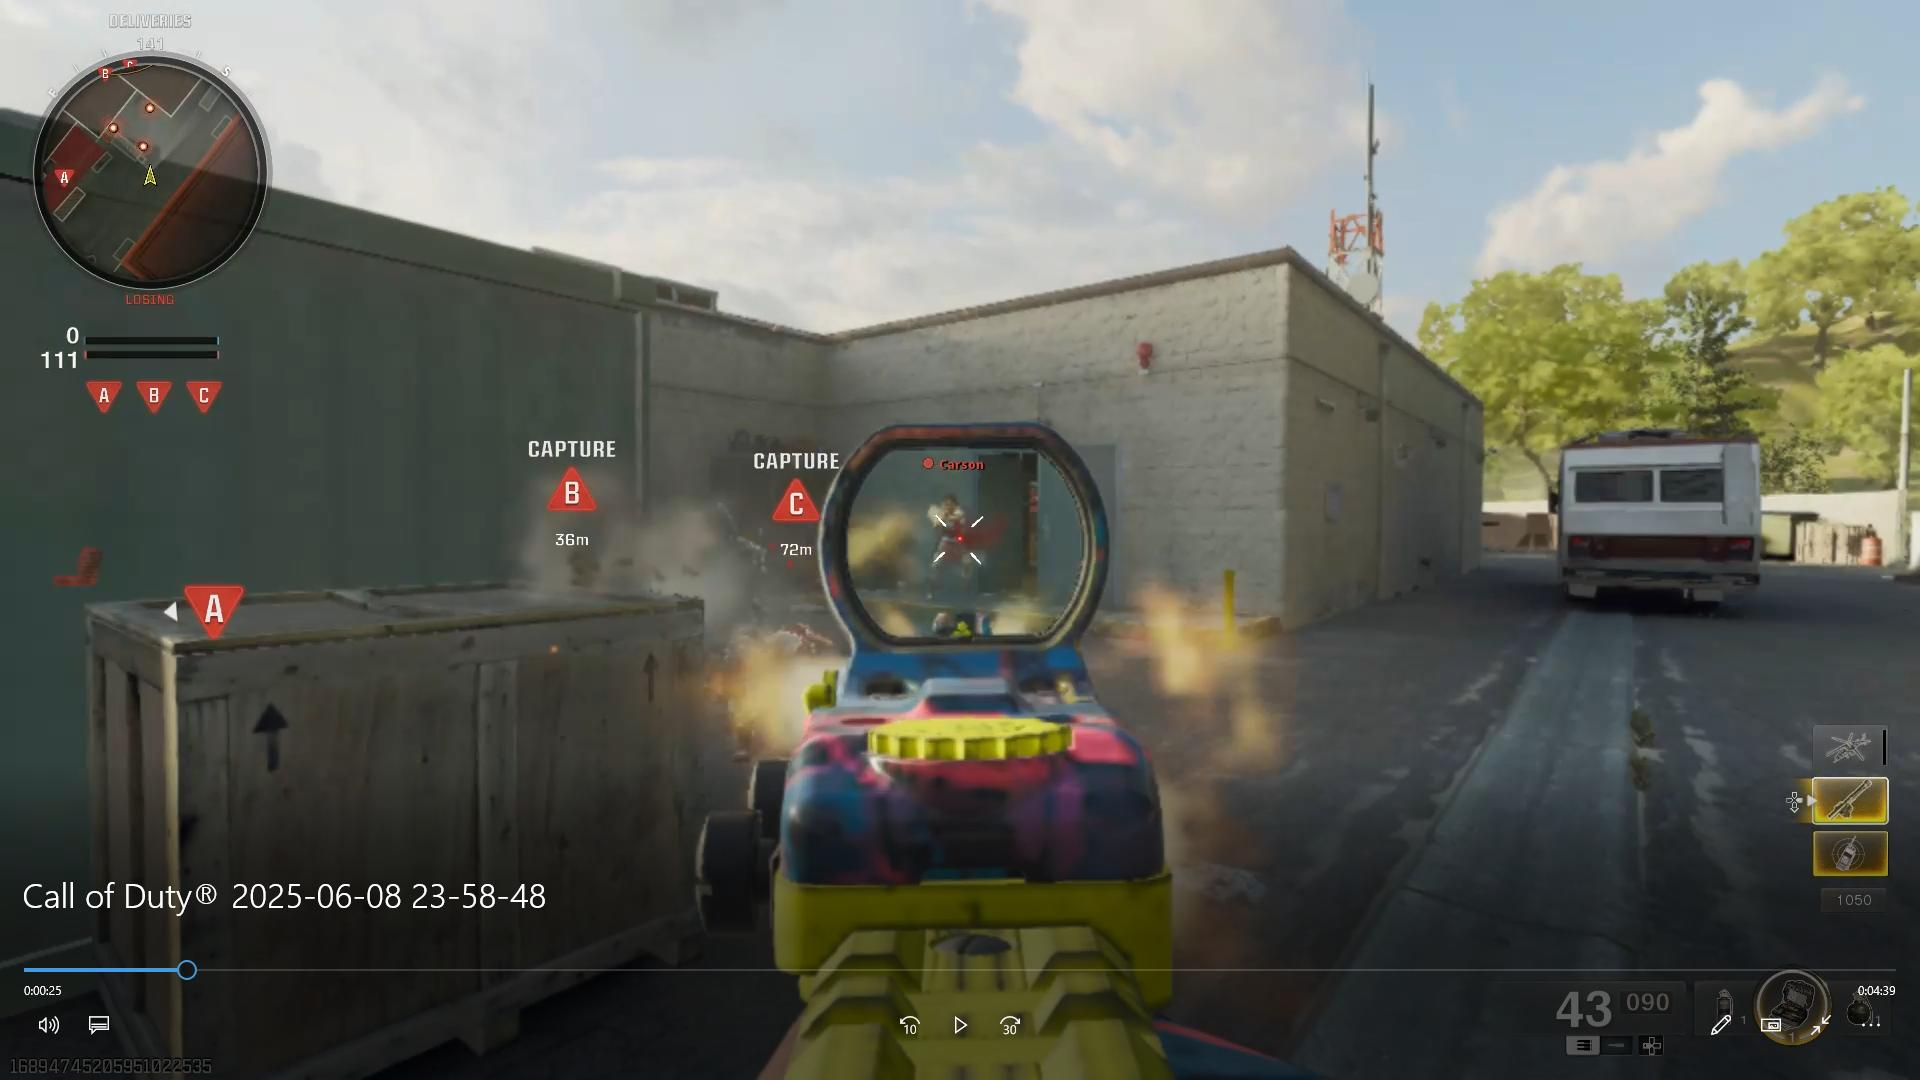Enemy: (913, 481, 988, 597)
